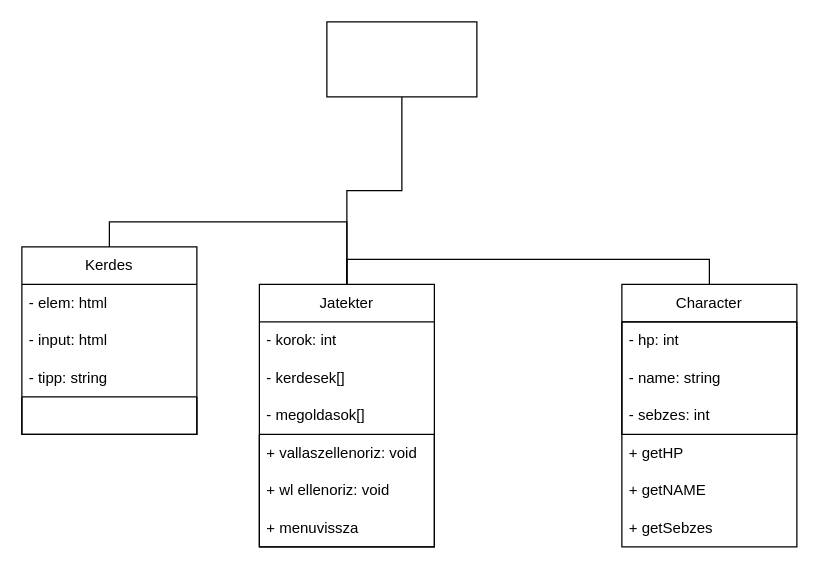
The diagram is 819 pixels wide and 569 high, and some of its shapes have lost their labels. Each missing label, with the centre of its shape:
"+ getTIPP" goes at (109,415).
"main Jatekter" goes at (401,59).
